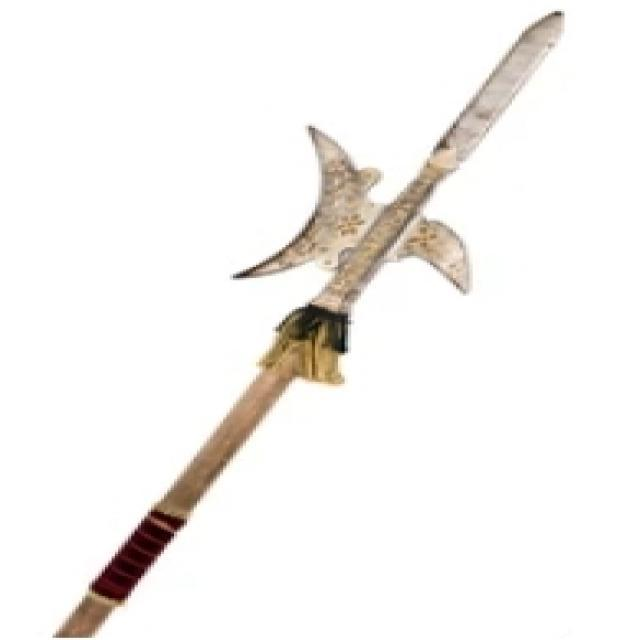spear: (54, 0, 586, 638)
